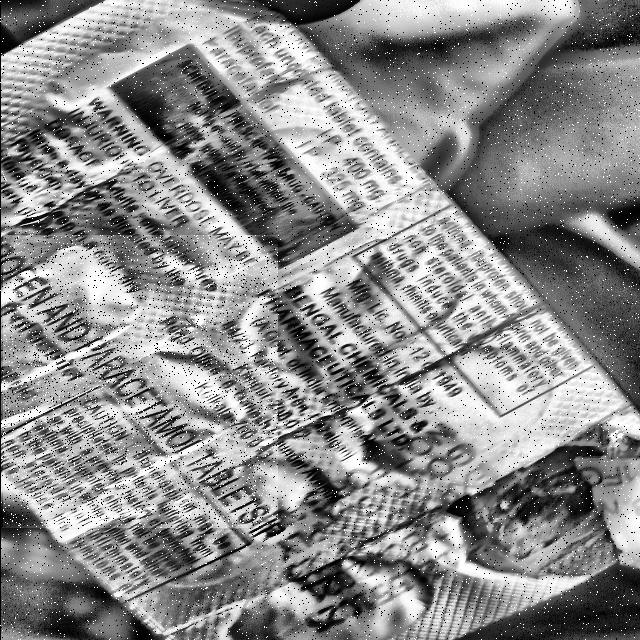IBUPROFEN AND PARACETAMOL TABLETS: (1, 236, 277, 527)
